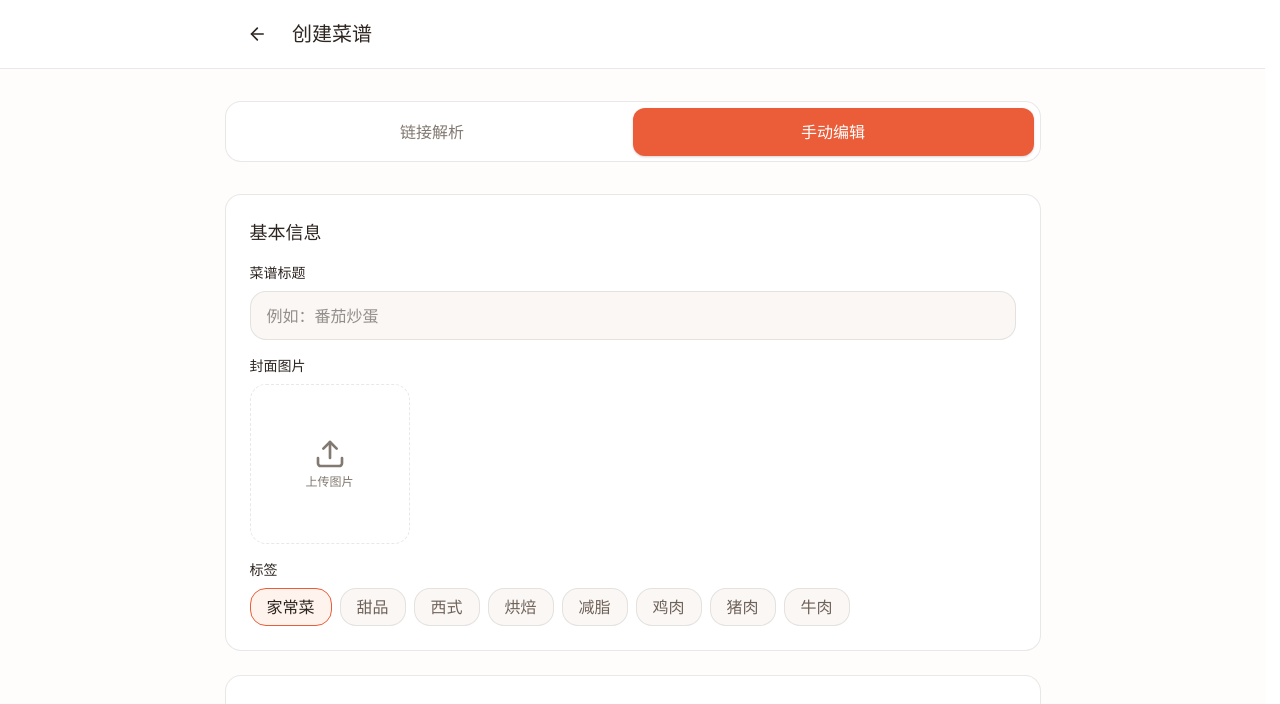
CreateRecipePage › shows the API error message when submission fails
In the field labelled "菜谱标题": {"x": 632, "y": 316} x1=250 y1=291 x2=1016 y2=340, type "Error Recipe"
(page scrolled)
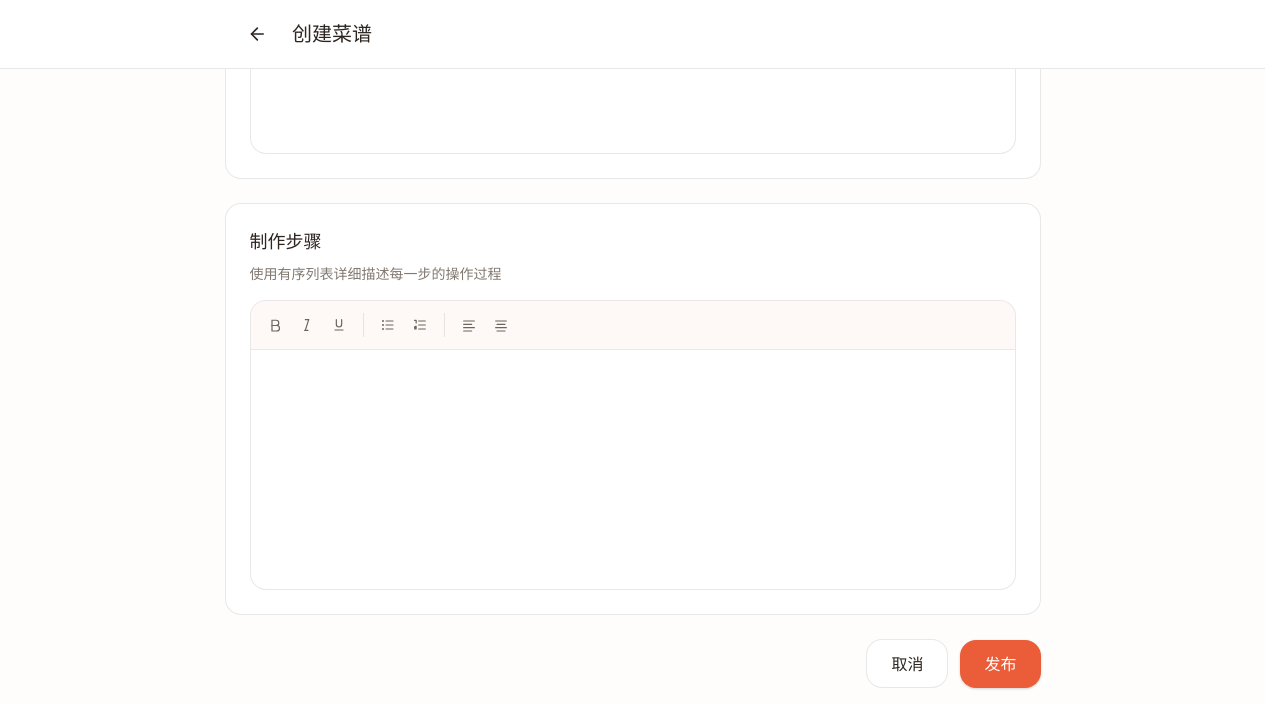
Click the button "发布": {"x": 1000, "y": 664} x1=960 y1=640 x2=1040 y2=688
(page scrolled)
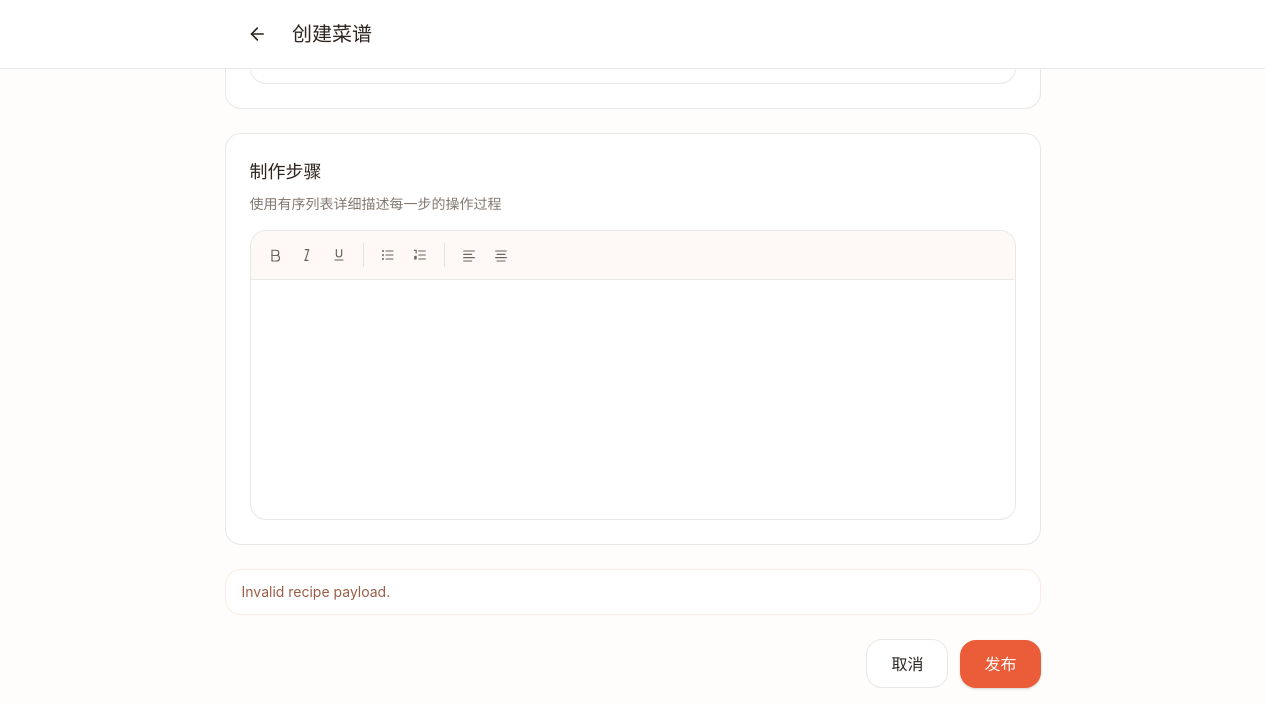
Expected: the text "Invalid recipe payload." is shown, x1=224 y1=569 x2=1040 y2=615
